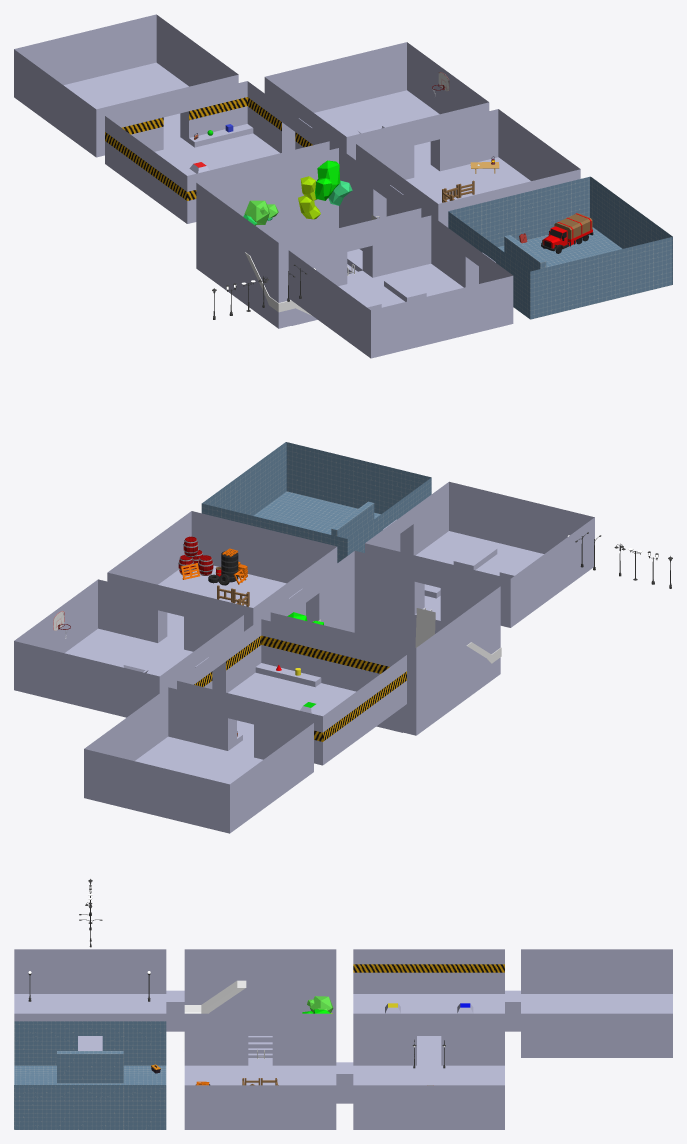
Rendered from demo world 3.glb.
3 renders of one model, top to bottom at view 1: azimuth 30°, elevation 25°; view 2: azimuth 150°, elevation 25°; view 3: azimuth 270°, elevation 25°, orthographic. The views are drawn at different scales.
Parts seen in each view (by area): view 1: Plane.007, Object_183, Object_148.001; view 2: Plane.007; view 3: Plane.007, Object_148.001.
Boxes of the visible parts, bbox=[...] form: Plane.007: bbox=[14, 14, 672, 358]; Object_183: bbox=[541, 213, 593, 253]; Object_148.001: bbox=[245, 252, 311, 315]; Plane.007: bbox=[14, 442, 594, 833]; Plane.007: bbox=[14, 949, 672, 1129]; Object_148.001: bbox=[183, 980, 246, 1051].
Bounding box in the file's own units: 72.1 × 38.6 × 106.
Materials: 35 (4 with a texture image).
